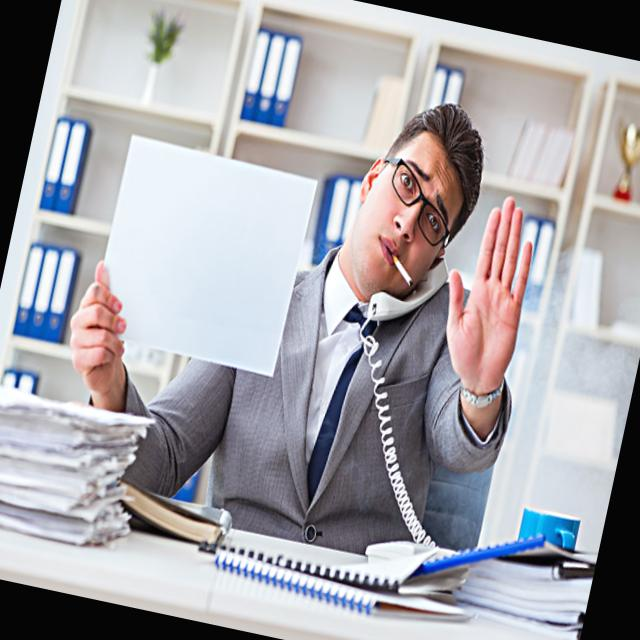smoke: (384, 250, 418, 289)
